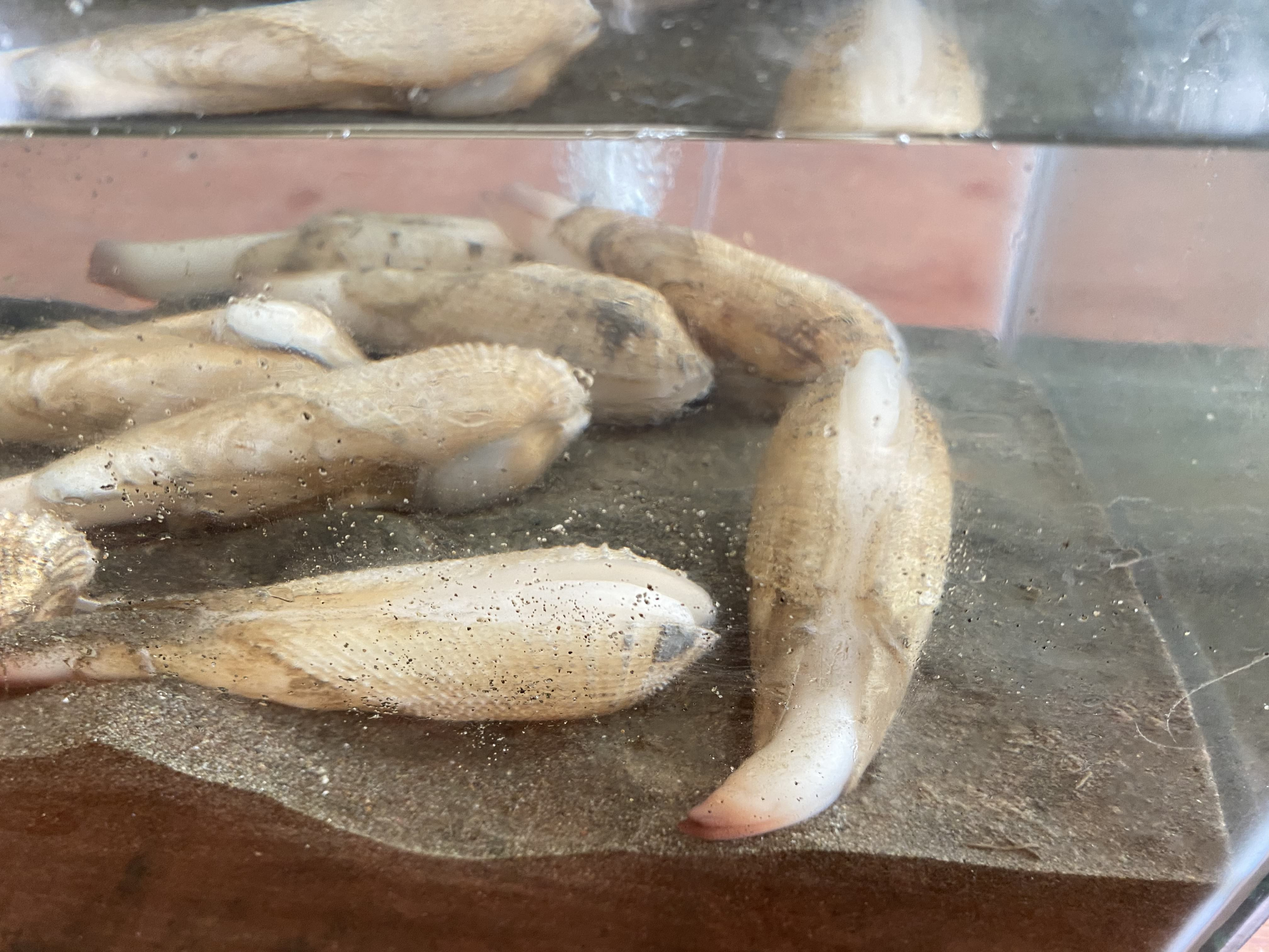Healthy: (689, 349, 951, 838), (0, 546, 717, 720), (684, 643, 861, 838)
